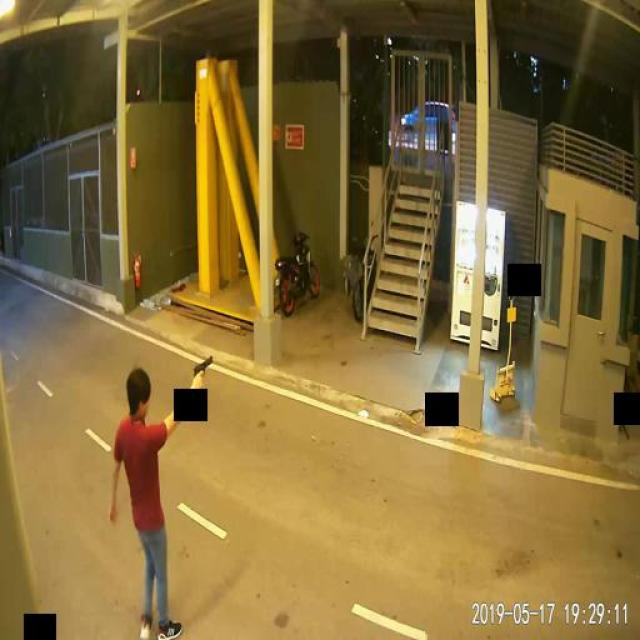gun: (191, 352, 210, 388)
